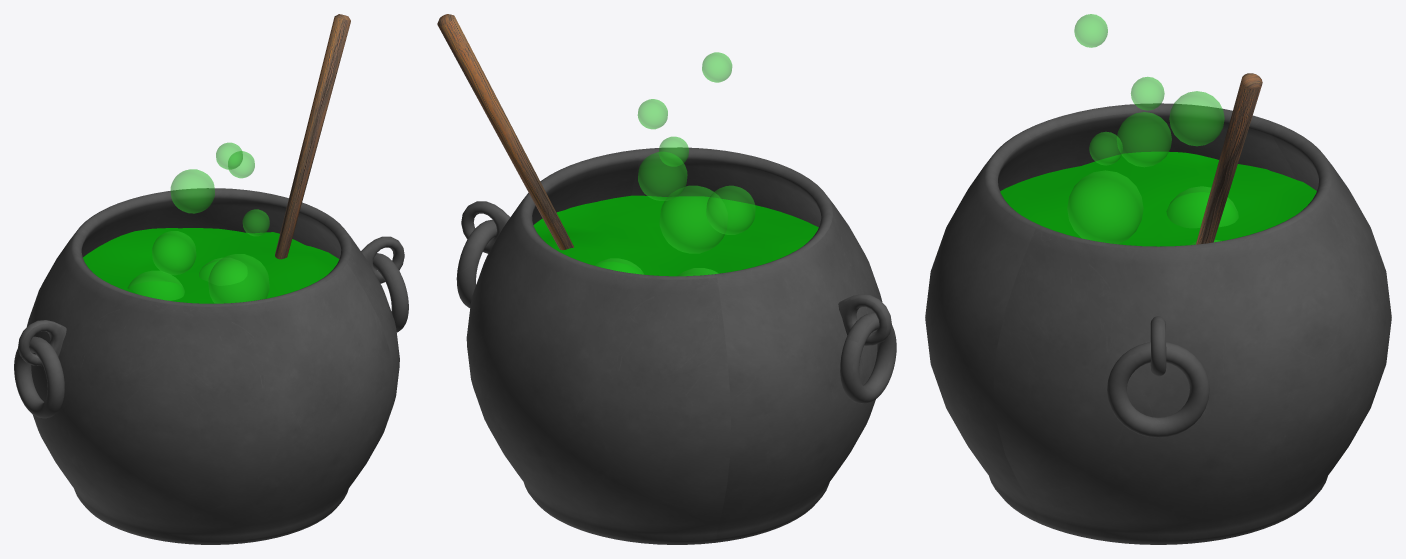
3 views of the same model, side by side, from view 1: azimuth 30°, elevation 25°; view 2: azimuth 150°, elevation 25°; view 3: azimuth 270°, elevation 25° (orthographic). The views are drawn at different scales.
Parts seen in each view (by area): view 1: Kessel, Suppe, Löffel, Henkel, Icosphere.002, Icosphere.003, Icosphere.005, Icosphere, Icosphere.001, Icosphere.007, Icosphere.006, Icosphere.004; view 2: Kessel, Suppe, Henkel, Löffel, Icosphere.002, Icosphere.005, Icosphere.003, Icosphere.004, Icosphere.006, Icosphere.007; view 3: Kessel, Suppe, Henkel, Icosphere.002, Löffel, Icosphere.003, Icosphere.005, Icosphere, Icosphere.004, Icosphere.006, Icosphere.007.
Part boxes in pixels (<box>): Kessel: <box>18,188,404,544</box>; Suppe: <box>83,228,339,303</box>; Löffel: <box>275,14,350,259</box>; Henkel: <box>14,253,408,418</box>; Icosphere.002: <box>208,254,269,303</box>; Icosphere.003: <box>170,169,214,213</box>; Icosphere.005: <box>152,231,196,275</box>; Icosphere: <box>128,270,184,300</box>; Icosphere.001: <box>199,257,246,285</box>; Icosphere.007: <box>242,209,269,236</box>; Icosphere.006: <box>216,142,242,169</box>; Icosphere.004: <box>228,151,254,178</box>; Kessel: <box>461,147,891,544</box>; Suppe: <box>533,195,818,276</box>; Henkel: <box>456,219,896,403</box>; Löffel: <box>437,14,573,250</box>; Icosphere.002: <box>659,185,727,253</box>; Icosphere.005: <box>706,185,755,234</box>; Icosphere.003: <box>638,151,687,200</box>; Icosphere.004: <box>637,99,667,129</box>; Icosphere.006: <box>702,52,732,82</box>; Icosphere.007: <box>659,136,688,166</box>; Kessel: <box>925,103,1391,544</box>; Suppe: <box>1000,151,1316,246</box>; Henkel: <box>1107,342,1209,437</box>; Icosphere.002: <box>1067,170,1143,244</box>; Löffel: <box>1196,73,1262,244</box>; Icosphere.003: <box>1169,91,1224,146</box>; Icosphere.005: <box>1117,112,1171,167</box>; Icosphere: <box>1166,186,1238,227</box>; Icosphere.004: <box>1131,77,1164,110</box>; Icosphere.006: <box>1074,14,1107,47</box>; Icosphere.007: <box>1089,132,1122,165</box>.
Bounding box in the file's own units: 3.46 × 3.53 × 2.94.
Materials: 5 (2 with a texture image).
